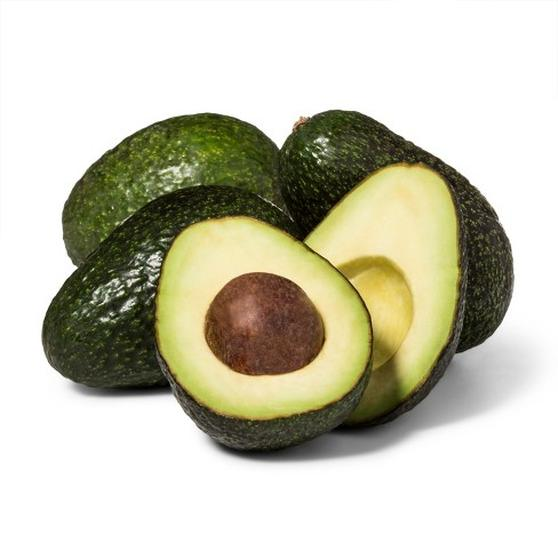avocado: (63, 112, 287, 251)
